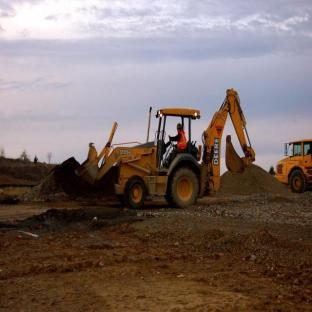ExcavationMachinery: (46, 84, 266, 211)
